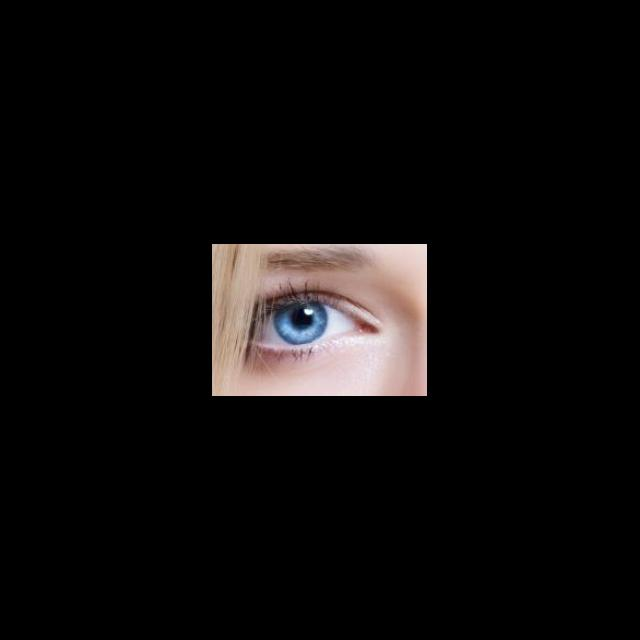eye: (269, 303, 356, 347)
iris: (275, 306, 327, 343)
